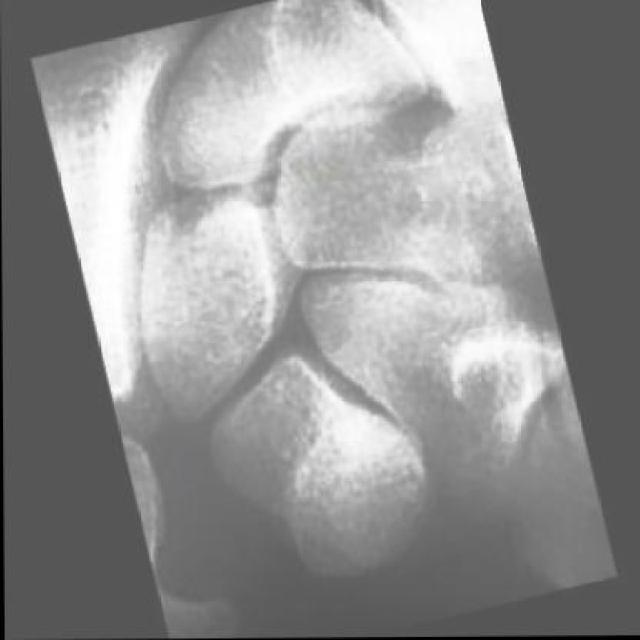Fracture: (226, 0, 345, 139)
